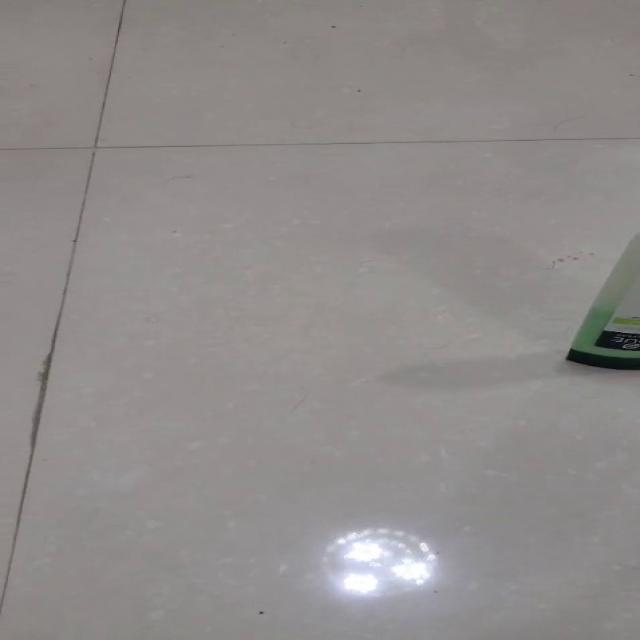plastic: (564, 230, 638, 370)
